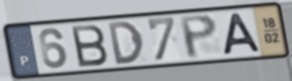6: (37, 27, 71, 70)
7: (146, 16, 177, 64)
A: (220, 11, 264, 57)
B: (69, 23, 110, 69)
D: (106, 20, 146, 67)
P: (177, 13, 220, 61)
